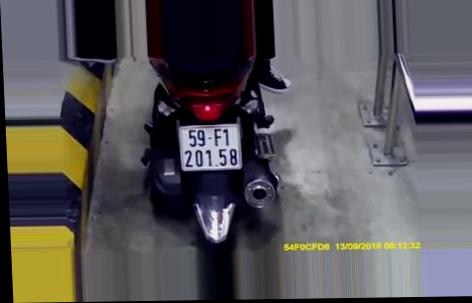License_Plate: (174, 120, 251, 176)
